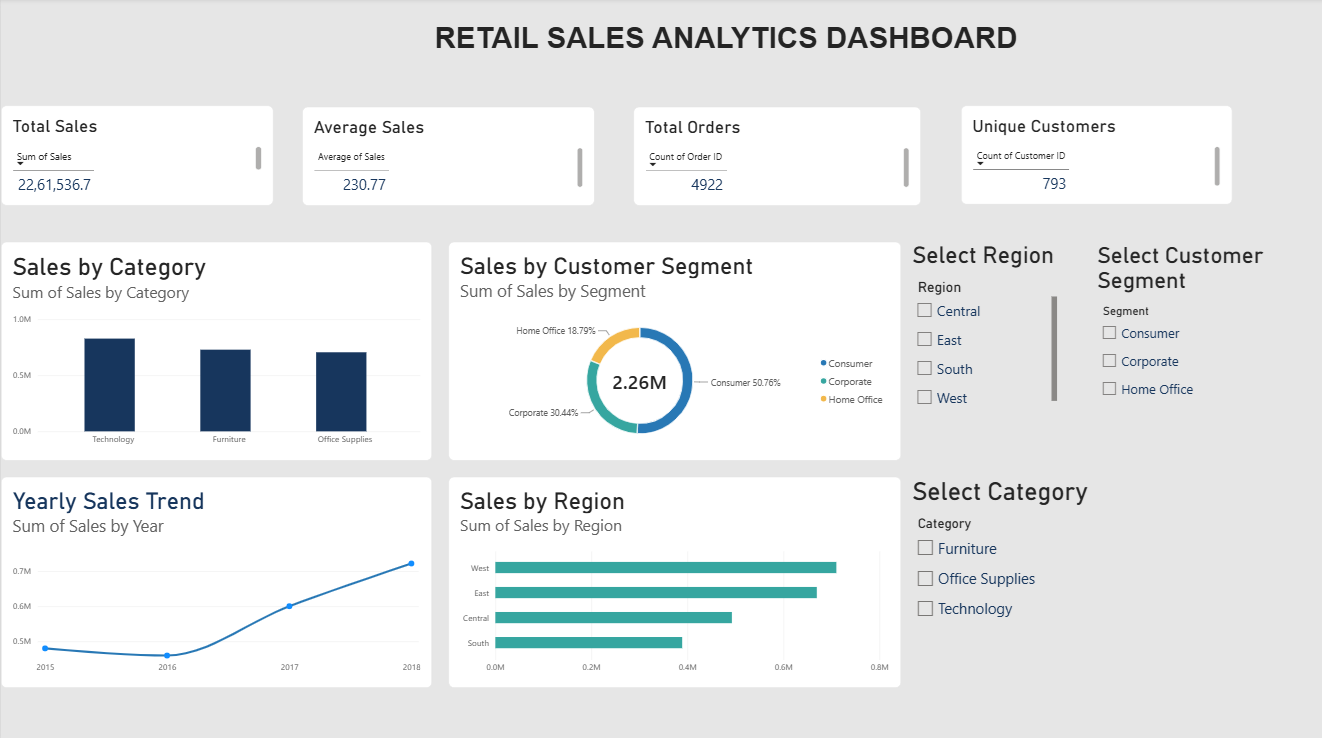

What the dashboard file says about the page in this screenshot:
{"tool":"powerbi","page":{"name":"Page 1","canvas":[1920,1080],"ordinal":0},"visuals":[{"type":"tableEx","title":"Total Sales","fields":{"Values":["Sum(train.Sales)"]},"box":[0,155.6,394.5,144.8],"z":0},{"type":"tableEx","title":"Average Sales","fields":{"Values":["Avg(train.Sales)"]},"box":[436.1,157.4,423.5,143],"z":1000},{"type":"tableEx","title":"Total Orders","fields":{"Values":["train.Order ID"]},"box":[915.7,157.4,416.2,143],"z":2000},{"type":"tableEx","title":"Unique Customers","fields":{"Values":["train.Customer ID"]},"box":[1389.8,155.6,392.7,143],"z":3000},{"type":"clusteredColumnChart","title":"Sales by Category","fields":{"Category":["train.Category"],"Y":["Sum(train.Sales)"]},"box":[0,352.9,624.3,316.7],"z":4000},{"type":"clusteredBarChart","title":"Sales by Region","fields":{"Category":["train.Region"],"Y":["Sum(train.Sales)"]},"box":[647.9,693.1,655.1,305.8],"z":5000},{"type":"donutChart","title":"Sales by Customer Segment","fields":{"Category":["train.Segment"],"Y":["Sum(train.Sales)"]},"box":[647.9,352.9,655.1,316.7],"z":6000},{"type":"lineChart","title":"Yearly Sales Trend","fields":{"Category":["train.Order Date.Variation.Date Hierarchy.Year","train.Order Date.Variation.Date Hierarchy.Month"],"Y":["Sum(train.Sales)"]},"box":[0,693.1,624.3,305.8],"z":7000},{"type":"slicer","title":"Select Region","fields":{"Values":["train.Region"]},"box":[1319.2,352.9,209.9,242.5],"z":8000},{"type":"slicer","title":"Select Category","fields":{"Values":["train.Category"]},"box":[1319.2,693.1,267.8,276.9],"z":9000},{"type":"slicer","title":"Select Customer Segment","fields":{"Values":["train.Segment"]},"box":[1587.1,352.9,255.2,260.6],"z":10000},{"type":"textbox","box":[628,32.6,959.1,68.8],"z":10001}]}

Visuals, with their boxes in screenshot pixels (x1, y1, x2, y2), scaled from the page's 1920x1080 canvas onto the 1322x738 screenshot:
"Total Sales" tableEx: (0, 106, 272, 205)
"Average Sales" tableEx: (300, 108, 592, 205)
"Total Orders" tableEx: (630, 108, 917, 205)
"Unique Customers" tableEx: (957, 106, 1227, 204)
"Sales by Category" clusteredColumnChart: (0, 241, 430, 458)
"Sales by Region" clusteredBarChart: (446, 474, 897, 683)
"Sales by Customer Segment" donutChart: (446, 241, 897, 458)
"Yearly Sales Trend" lineChart: (0, 474, 430, 683)
"Select Region" slicer: (908, 241, 1053, 407)
"Select Category" slicer: (908, 474, 1093, 663)
"Select Customer Segment" slicer: (1093, 241, 1269, 419)
textbox: (432, 22, 1093, 69)
